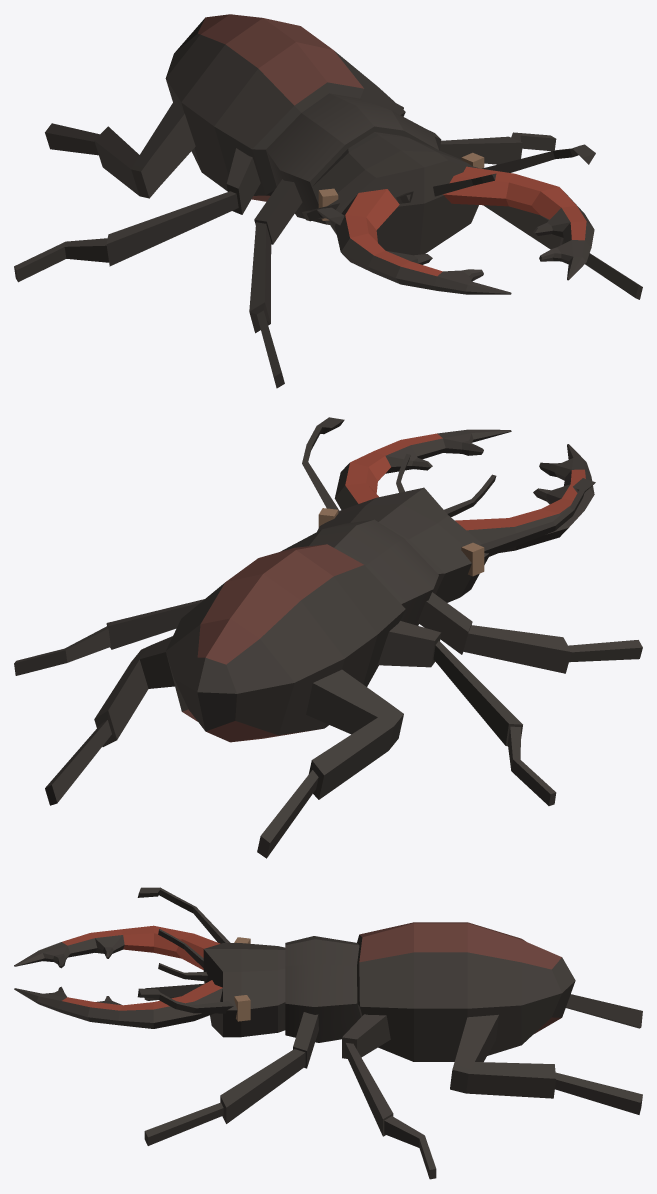
File: beetle.gltf
3 views of the same model, one above another, from view 1: azimuth 30°, elevation 25°; view 2: azimuth 150°, elevation 25°; view 3: azimuth 270°, elevation 25° (orthographic). The views are drawn at different scales.
Parts seen in each view (by area): view 1: node-0; view 2: node-0; view 3: node-0.
Boxes of the visible parts, x1,y1,x2,y2 form: node-0: [14, 14, 642, 388]; node-0: [14, 417, 642, 858]; node-0: [14, 887, 642, 1179].
Size of the model in its own units: 1.31 by 0.4262 by 1.61.
Materials: 1 (1 with a texture image).
